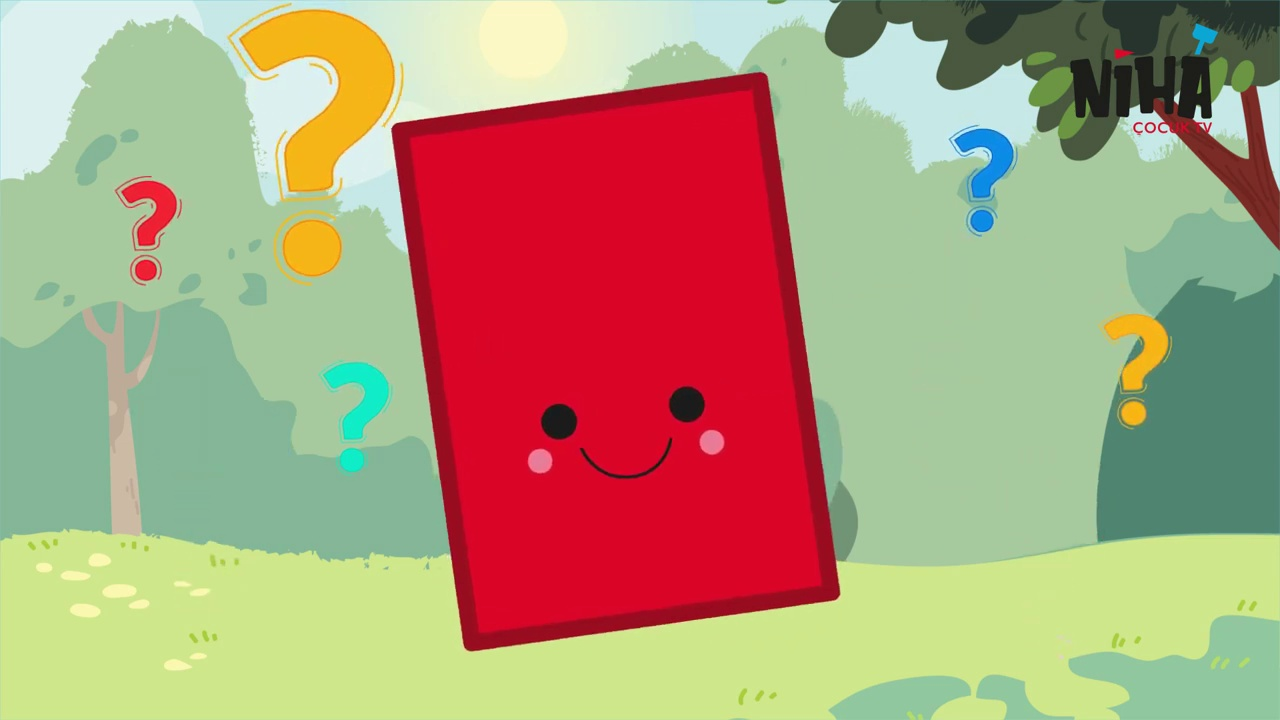dikdortgen: (384, 67, 864, 655)
